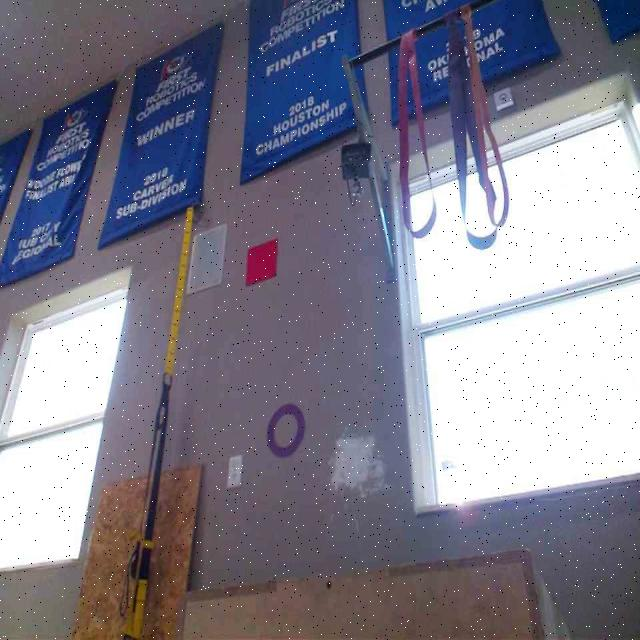ring_purple: (267, 402, 305, 458)
square_red: (245, 236, 277, 286)
